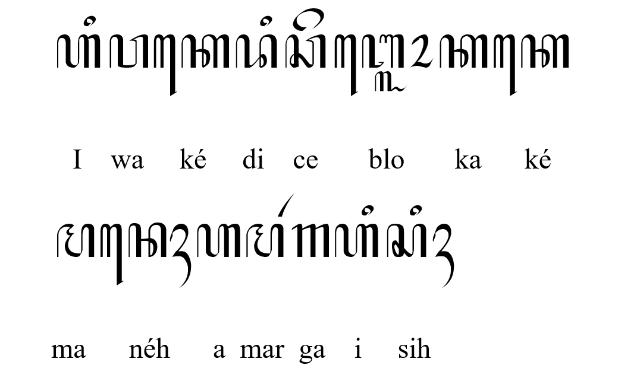_h1: (170, 223, 192, 289), (432, 223, 454, 288)
_l: (374, 70, 406, 92)
_r1: (276, 194, 294, 218)
b: (361, 34, 405, 68)
c: (285, 34, 327, 68)
d: (236, 33, 278, 69)
e: (292, 8, 324, 31)
e1: (492, 34, 518, 97), (153, 34, 177, 98), (100, 223, 124, 287), (334, 34, 358, 97)
g: (292, 223, 330, 258)
h: (334, 223, 380, 258), (57, 34, 101, 68), (196, 224, 240, 258)
i: (82, 15, 96, 27), (408, 205, 422, 217), (361, 204, 374, 216), (260, 15, 272, 27)
k: (180, 34, 230, 68), (438, 34, 488, 68), (520, 34, 570, 68)
m: (56, 223, 95, 259), (246, 224, 284, 258)
n: (127, 222, 167, 258)
o: (409, 34, 433, 68)
s: (387, 223, 428, 258)
w: (109, 34, 150, 68)
